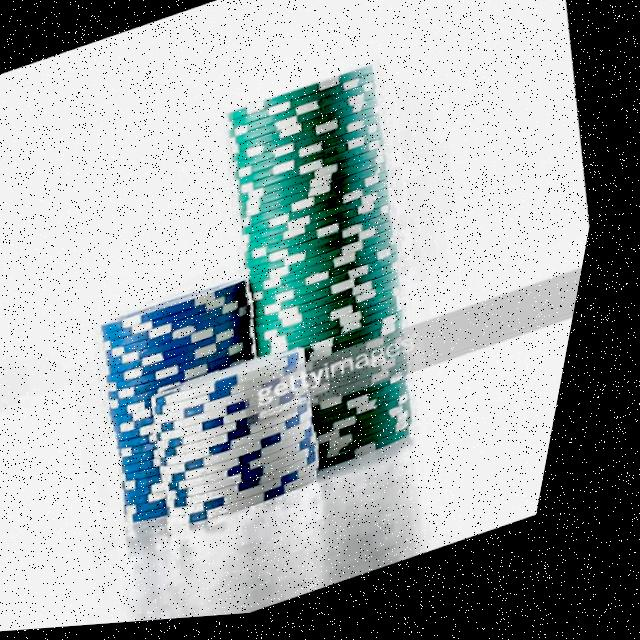Chip: (162, 49, 503, 508), (59, 261, 329, 546), (140, 330, 379, 553)
